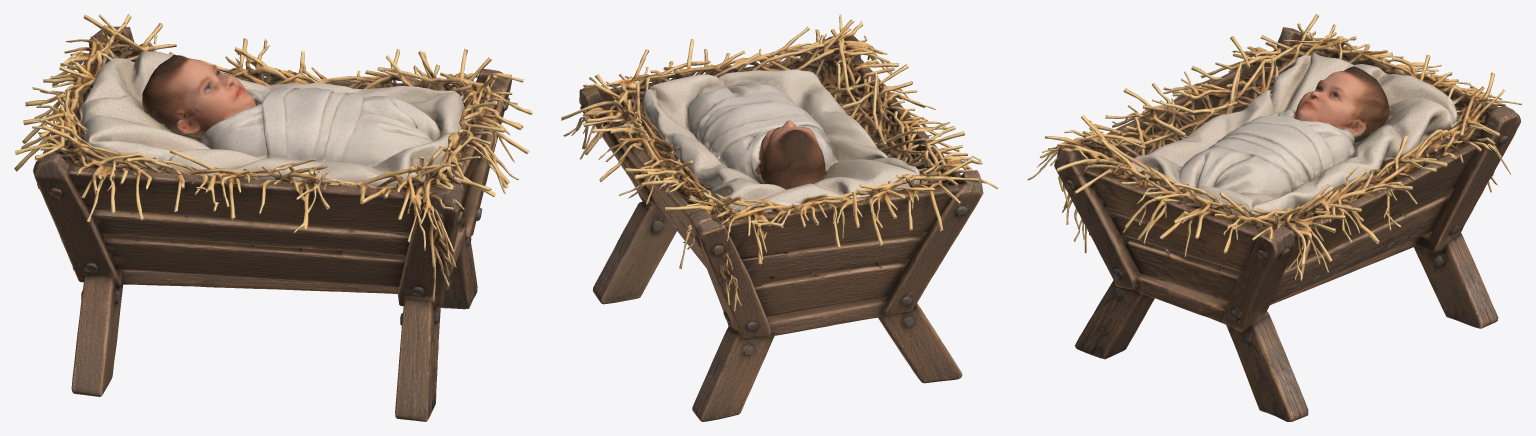
Rendered from jesus-manger-tripo.glb.
3 renders of one model, left to right at view 1: azimuth 30°, elevation 25°; view 2: azimuth 150°, elevation 25°; view 3: azimuth 270°, elevation 25°, orthographic. The views are drawn at different scales.
Parts seen in each view (by area): view 1: tripo_node_997ed375-363c-4c88-8b6a-e045f2e40191; view 2: tripo_node_997ed375-363c-4c88-8b6a-e045f2e40191; view 3: tripo_node_997ed375-363c-4c88-8b6a-e045f2e40191.
Boxes of the visible parts, <box> form: tripo_node_997ed375-363c-4c88-8b6a-e045f2e40191: <box>14,14,532,421</box>; tripo_node_997ed375-363c-4c88-8b6a-e045f2e40191: <box>561,14,998,421</box>; tripo_node_997ed375-363c-4c88-8b6a-e045f2e40191: <box>1027,14,1521,421</box>.
Size of the model in its own units: 1.29 by 0.72 by 1.33.
Materials: 1 (1 with a texture image).
